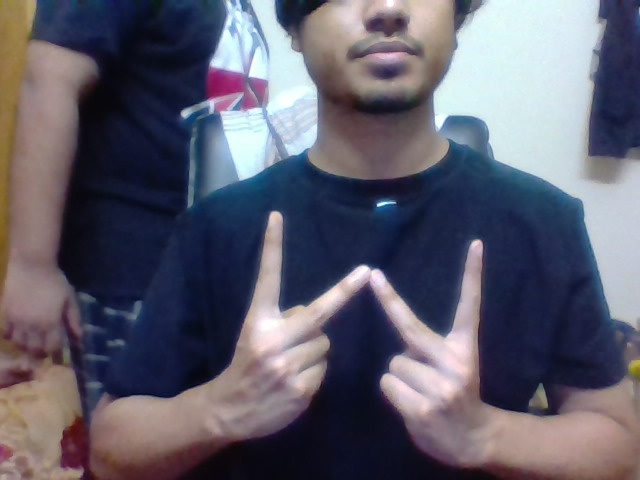W: (245, 203, 489, 346)
